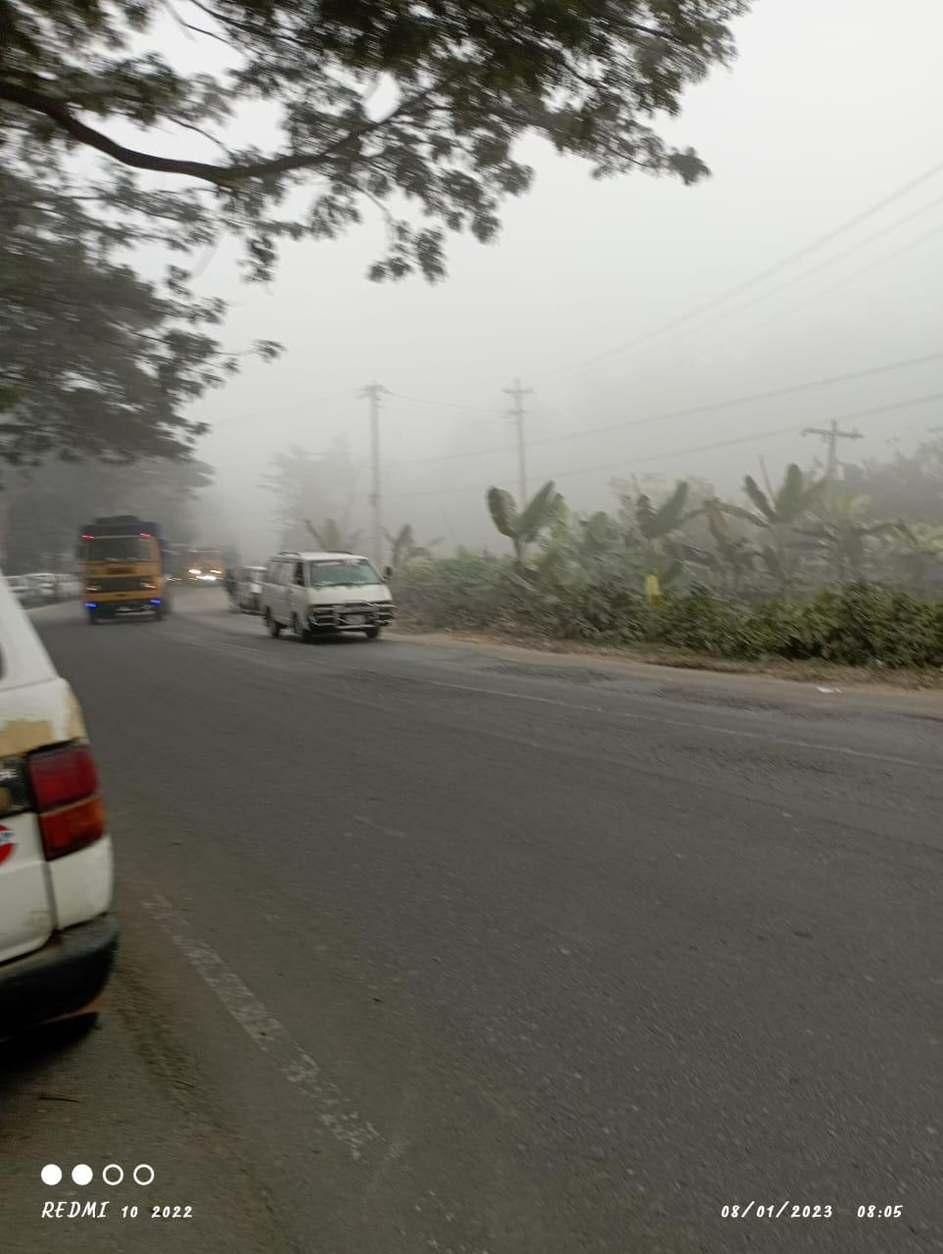Car: (249, 546, 400, 636)
Truck: (71, 506, 186, 622)
